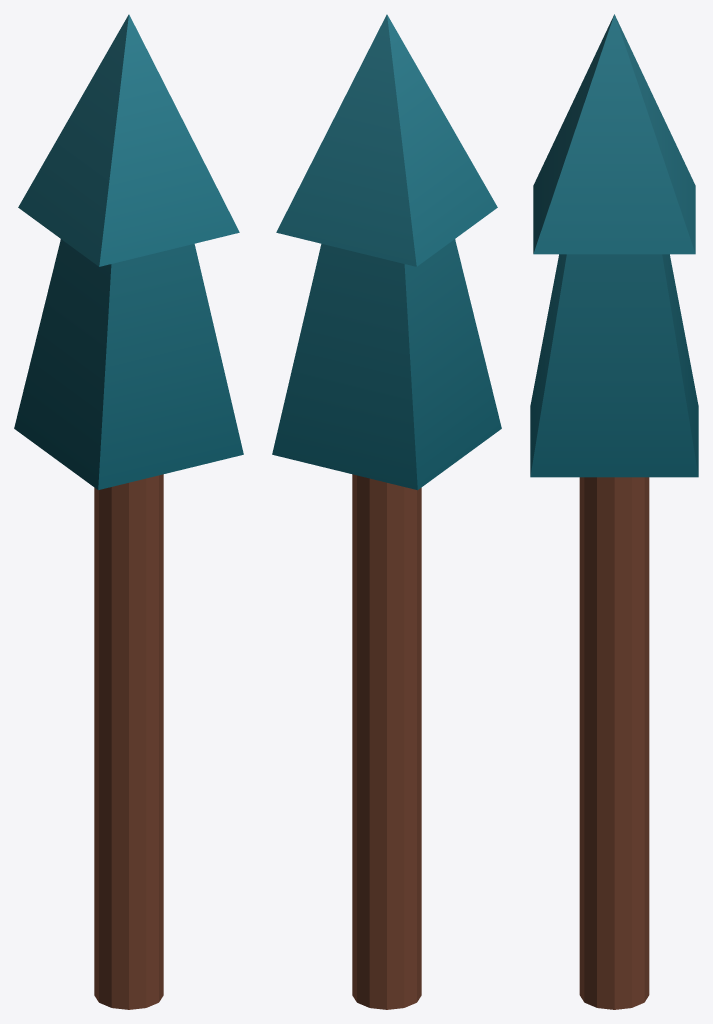
The model's file is Tree_16_gradient_blue_vc.fbx.
3 views of the same model, side by side, from view 1: azimuth 30°, elevation 25°; view 2: azimuth 150°, elevation 25°; view 3: azimuth 270°, elevation 25° (orthographic).
Visible parts, largest first — view 1: Tree_16_gradient_blue_vc; view 2: Tree_16_gradient_blue_vc; view 3: Tree_16_gradient_blue_vc.
Boxes of the visible parts, x1=… form: Tree_16_gradient_blue_vc: x1=14, y1=14, x2=243, y2=1009; Tree_16_gradient_blue_vc: x1=272, y1=14, x2=501, y2=1009; Tree_16_gradient_blue_vc: x1=530, y1=14, x2=698, y2=1009.
Bounding box in the file's own units: 53.67 × 345 × 53.67.
